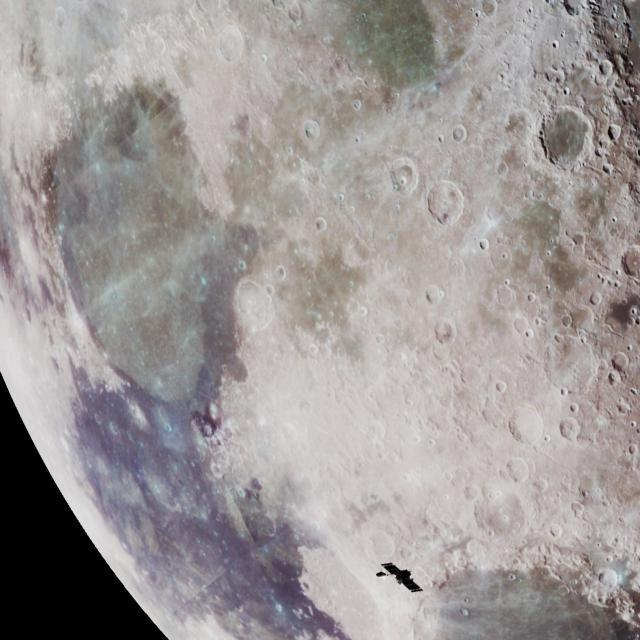satellite: (366, 553, 436, 610)
